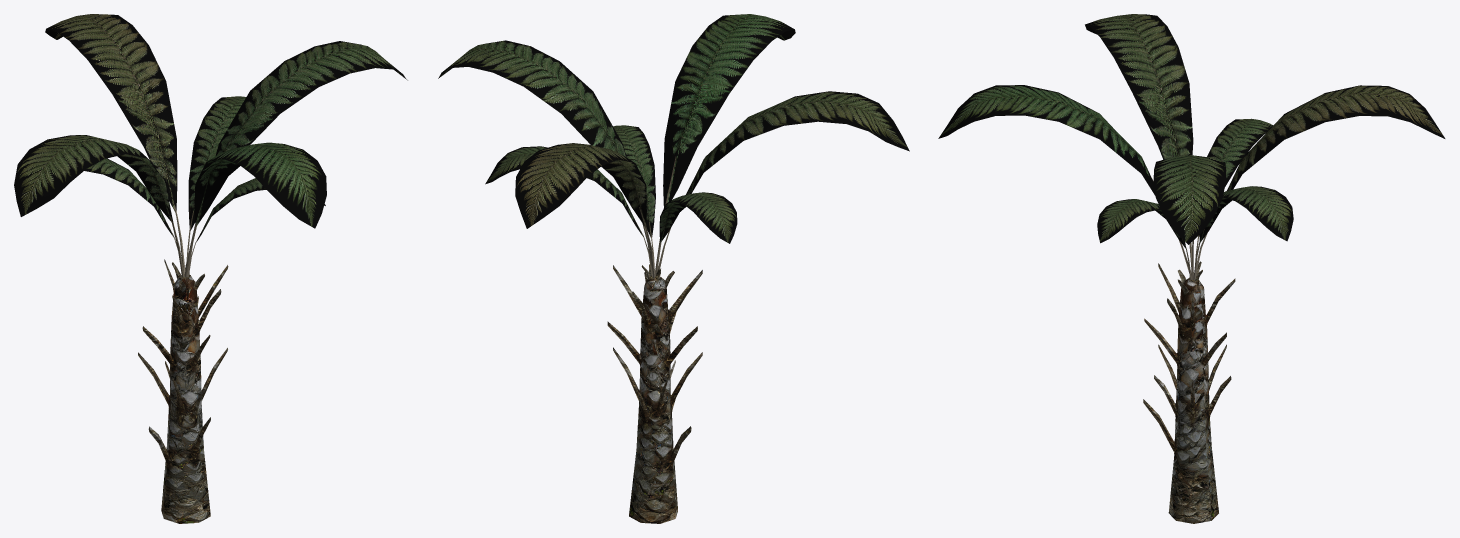
File: treeExterior.obj
3 views of the same model, side by side, from view 1: azimuth 30°, elevation 25°; view 2: azimuth 150°, elevation 25°; view 3: azimuth 270°, elevation 25° (orthographic).
Parts seen in each view (by area): view 1: fern_tree:Fern_Tree; view 2: fern_tree:Fern_Tree; view 3: fern_tree:Fern_Tree.
Part boxes in pixels (left/top/right/bottom): fern_tree:Fern_Tree: left=14, top=14, right=407, bottom=523; fern_tree:Fern_Tree: left=438, top=14, right=909, bottom=523; fern_tree:Fern_Tree: left=938, top=14, right=1445, bottom=523.
Size of the model in its own units: 5.92 by 5.59 by 6.14.
1 material, 1 textured.
